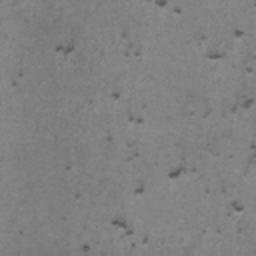Oxide scale of temperature system: (82, 90, 186, 253), (205, 28, 256, 157), (120, 31, 141, 58), (154, 0, 184, 14), (55, 44, 76, 58), (12, 68, 24, 88), (230, 198, 246, 212), (64, 163, 73, 173)
